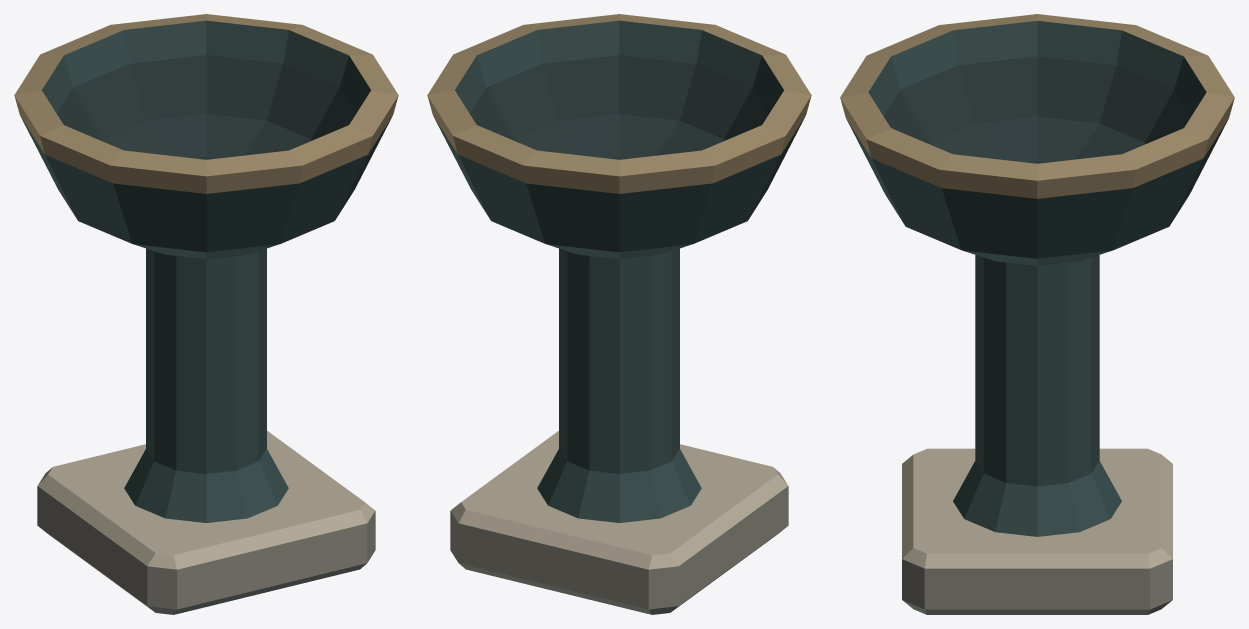
The model's file is brazier.glb.
3 renders of one model, left to right at view 1: azimuth 30°, elevation 25°; view 2: azimuth 150°, elevation 25°; view 3: azimuth 270°, elevation 25°, orthographic. The views are drawn at different scales.
Parts seen in each view (by area): view 1: brazier; view 2: brazier; view 3: brazier.
Part boxes in pixels (x1=…): brazier: x1=14, y1=14, x2=398, y2=614; brazier: x1=427, y1=14, x2=811, y2=614; brazier: x1=840, y1=14, x2=1234, y2=614.
Bounding box in the file's own units: 0.7 × 0.92 × 0.7.
